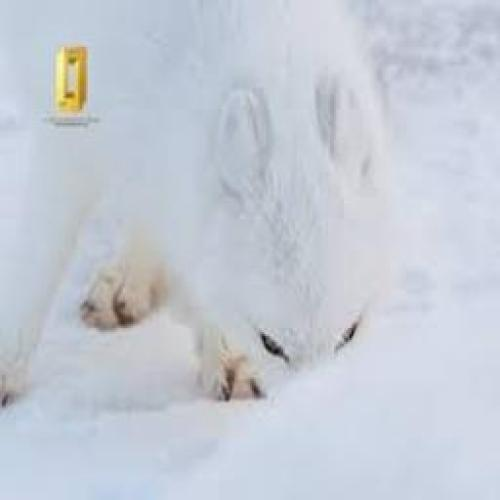arctic_fox-endangered: (0, 10, 389, 404)
